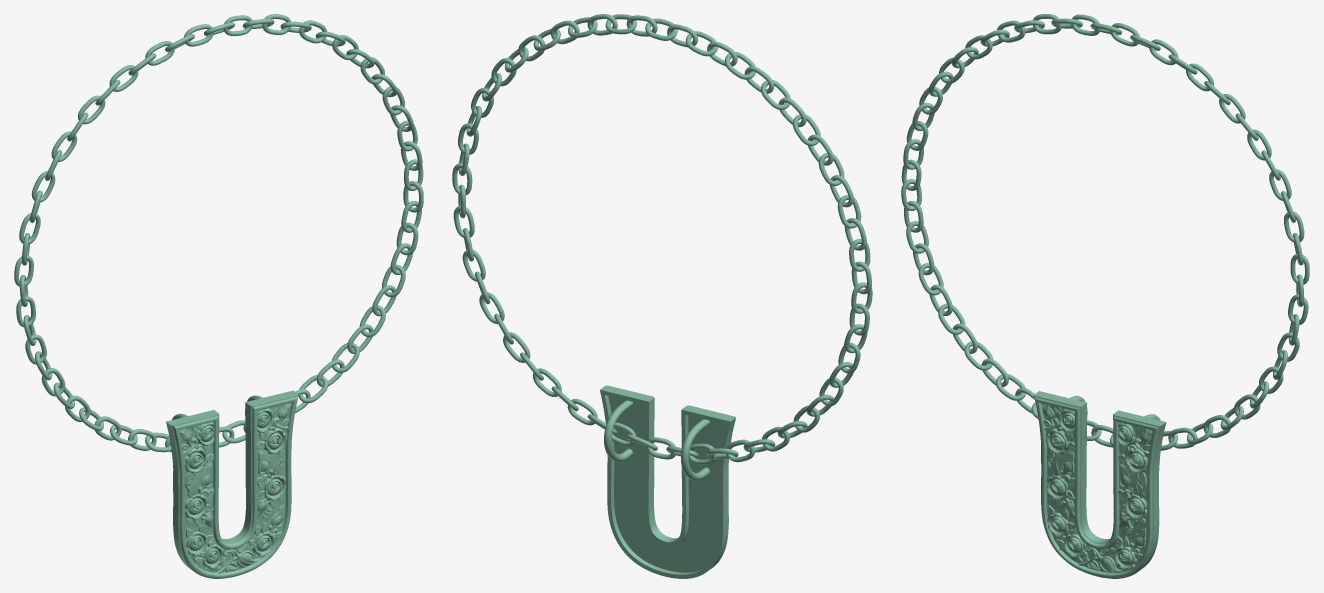
The picture shows the model from 3 angles, left to right: view 1: azimuth 30°, elevation 25°; view 2: azimuth 150°, elevation 25°; view 3: azimuth 330°, elevation 25°; orthographic projection. The views are drawn at different scales.
Parts seen in each view (by area): view 1: object 1, Pingente Alfabeto3 Letra U Render.3dm; view 2: Pingente Alfabeto3 Letra U Render.3dm, object 1; view 3: object 1, Pingente Alfabeto3 Letra U Render.3dm.
Part boxes in pixels (x1,y1,x2,y2): object 1: [166, 390, 298, 578]; Pingente Alfabeto3 Letra U Render.3dm: [14, 14, 423, 452]; Pingente Alfabeto3 Letra U Render.3dm: [452, 14, 872, 464]; object 1: [600, 385, 735, 578]; object 1: [1034, 391, 1166, 578]; Pingente Alfabeto3 Letra U Render.3dm: [901, 14, 1309, 450].
Bounding box in the file's own units: 2.45 × 3.15 × 0.2871.
